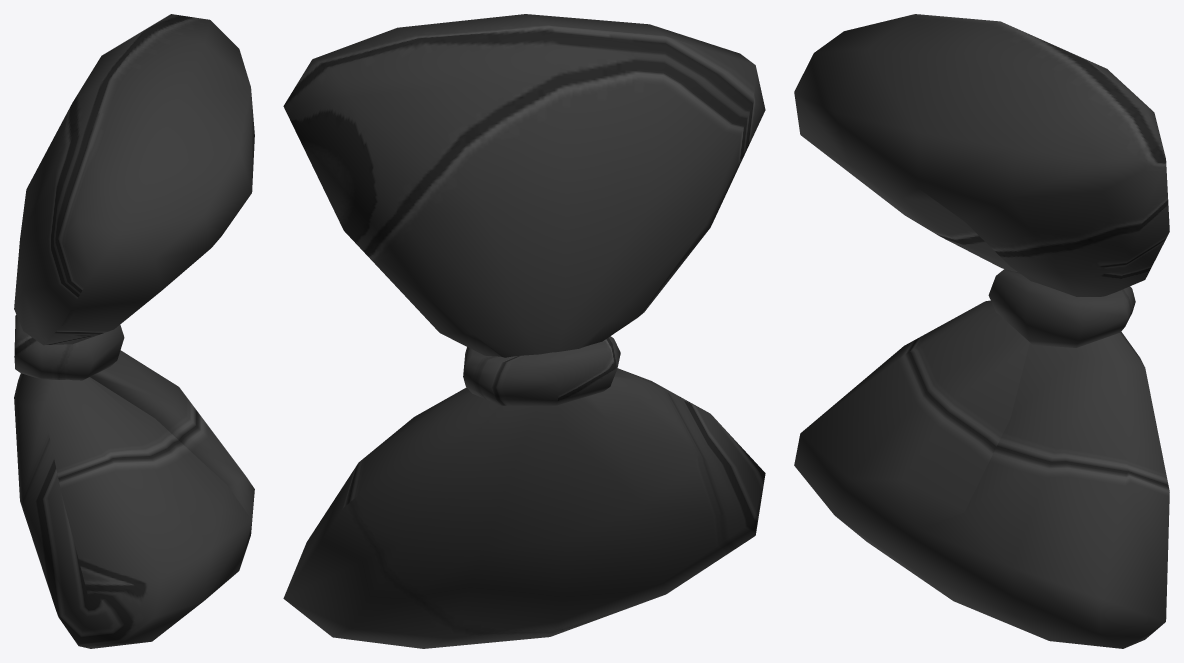
Rendered from pm0238_00_muchul_fashionweek.fbx.
3 views of the same model, side by side, from view 1: azimuth 30°, elevation 25°; view 2: azimuth 150°, elevation 25°; view 3: azimuth 270°, elevation 25° (orthographic). The views are drawn at different scales.
Visible parts, largest first — view 1: fashionweek_ribbonSkin; view 2: fashionweek_ribbonSkin; view 3: fashionweek_ribbonSkin.
Part boxes in pixels (<box>): fashionweek_ribbonSkin: <box>14,14,254,648</box>; fashionweek_ribbonSkin: <box>283,14,765,648</box>; fashionweek_ribbonSkin: <box>794,14,1169,648</box>.
Bounding box in the file's own units: 0.0516 × 0.0928 × 0.055.
